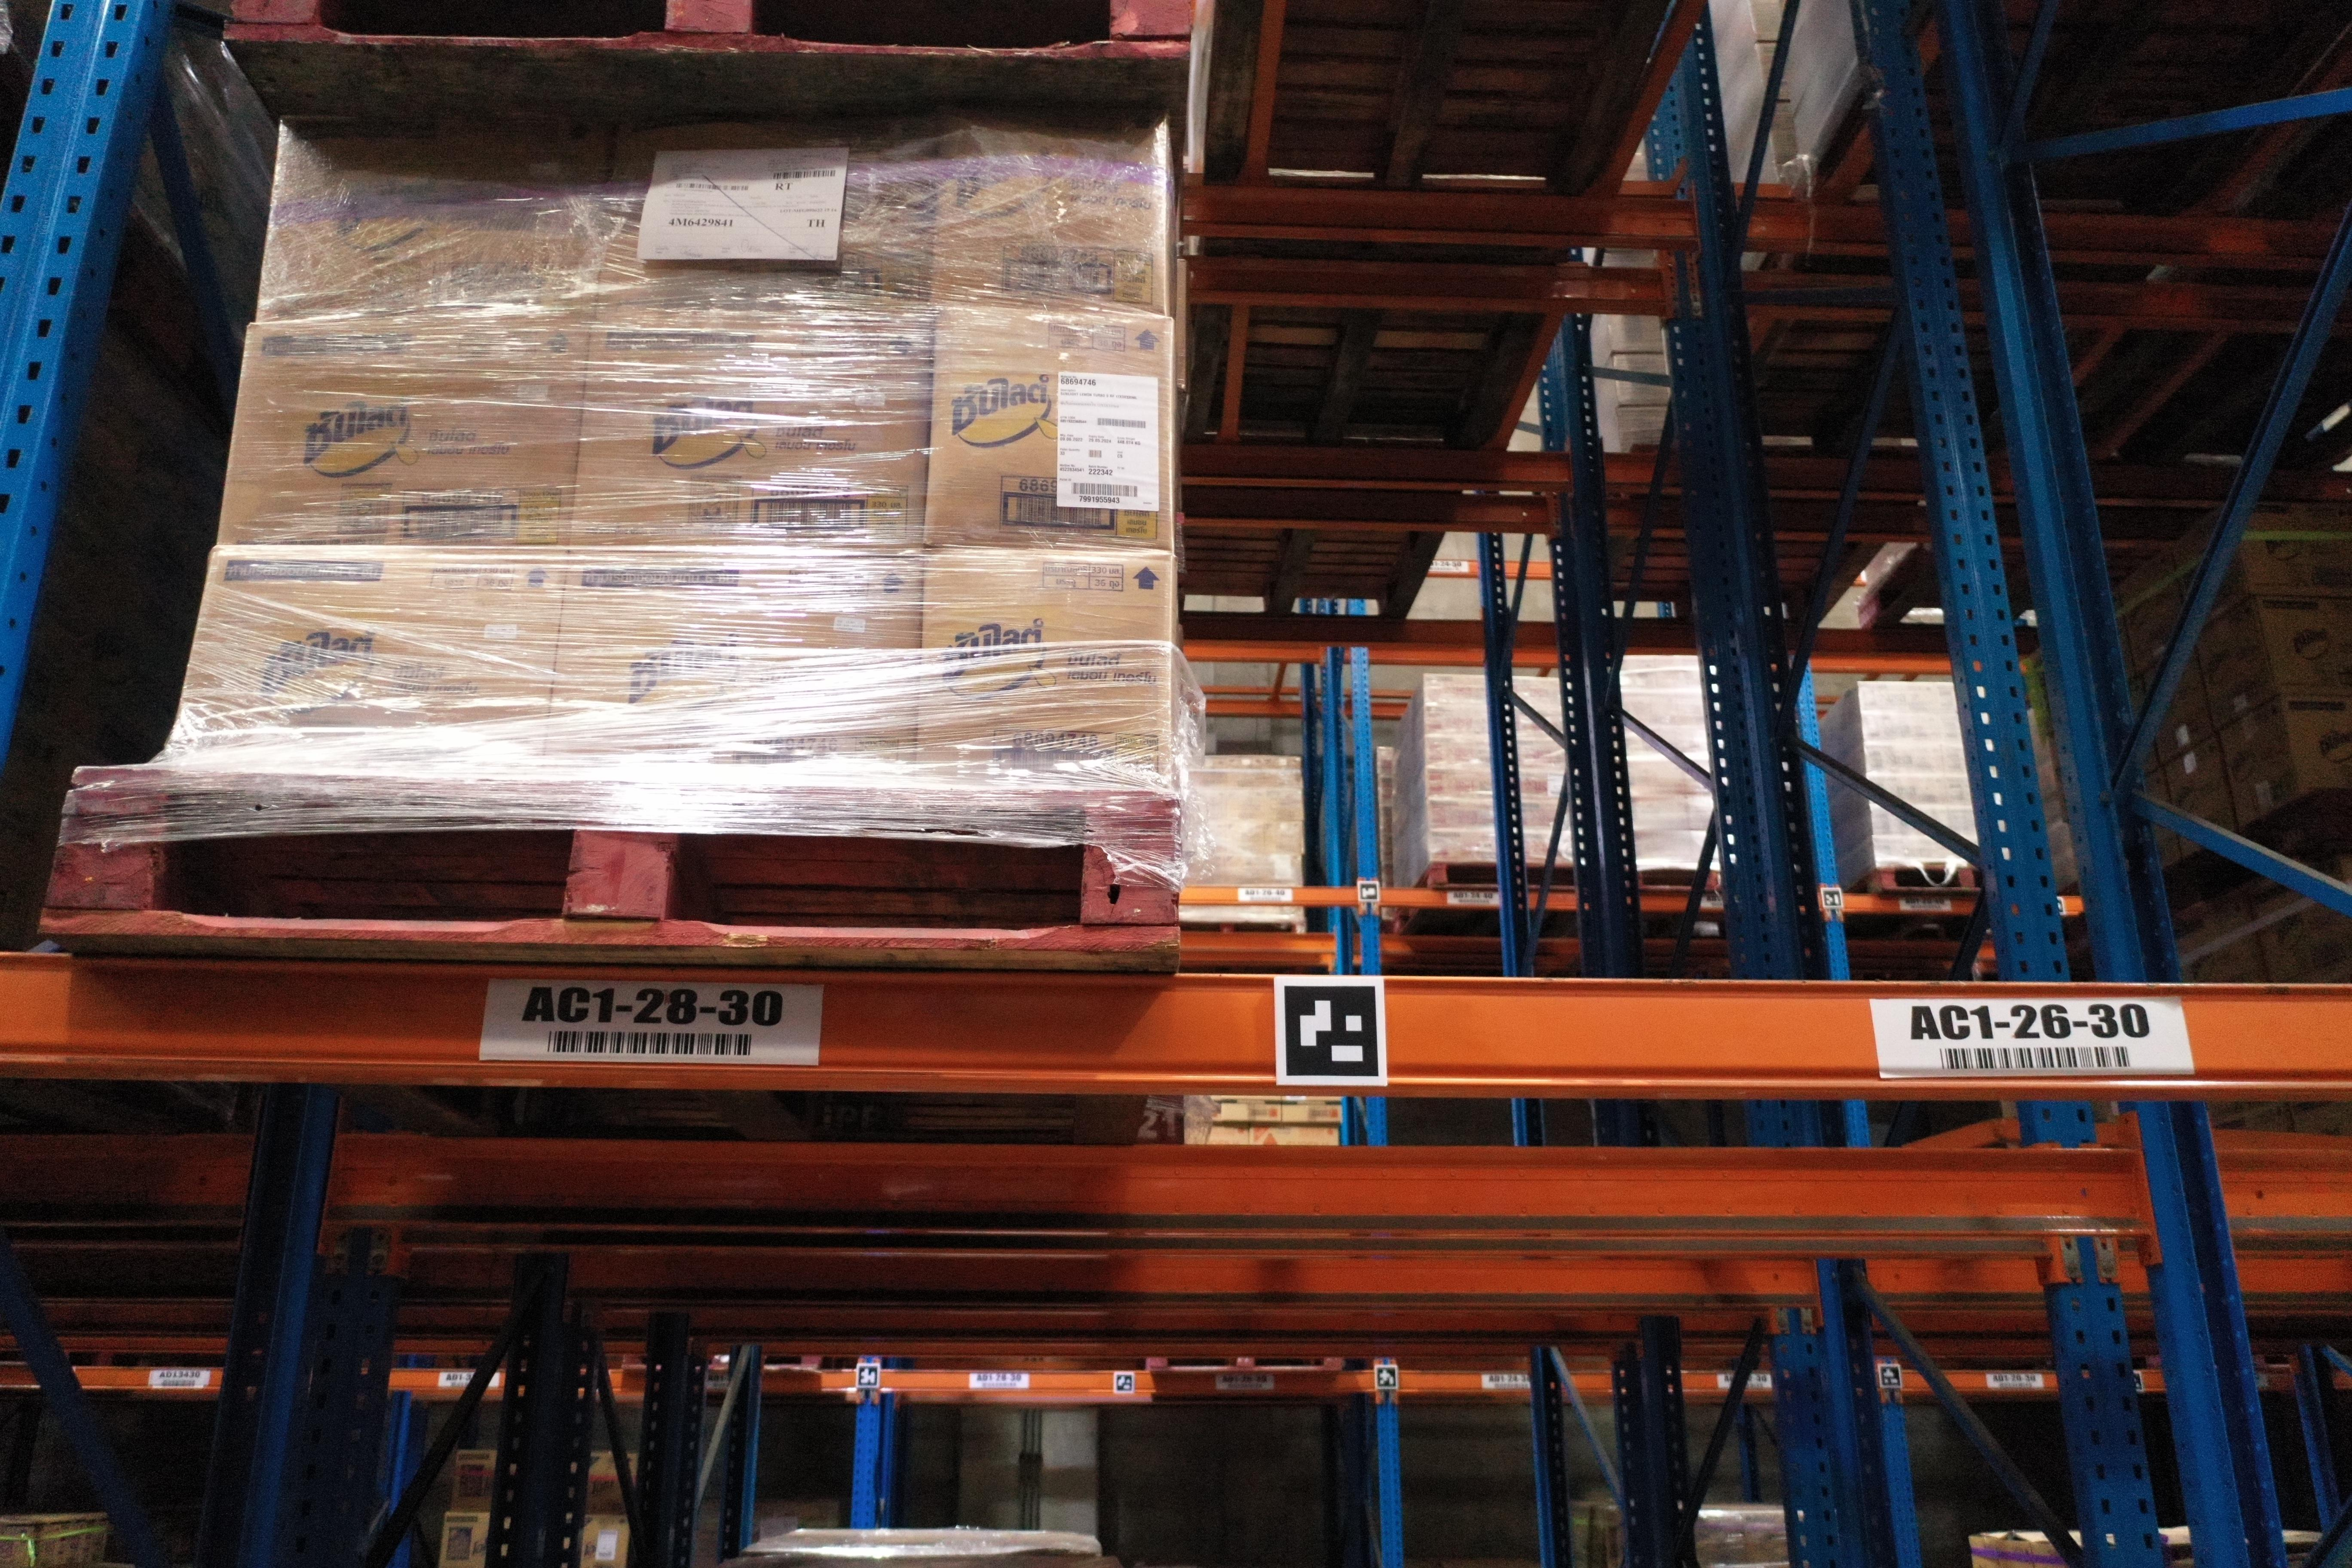-: (166, 551, 569, 787), (541, 549, 924, 794), (212, 322, 593, 556), (565, 327, 934, 553), (252, 112, 614, 334), (591, 119, 941, 339), (913, 553, 1176, 800), (922, 304, 1172, 555), (926, 112, 1171, 317)
